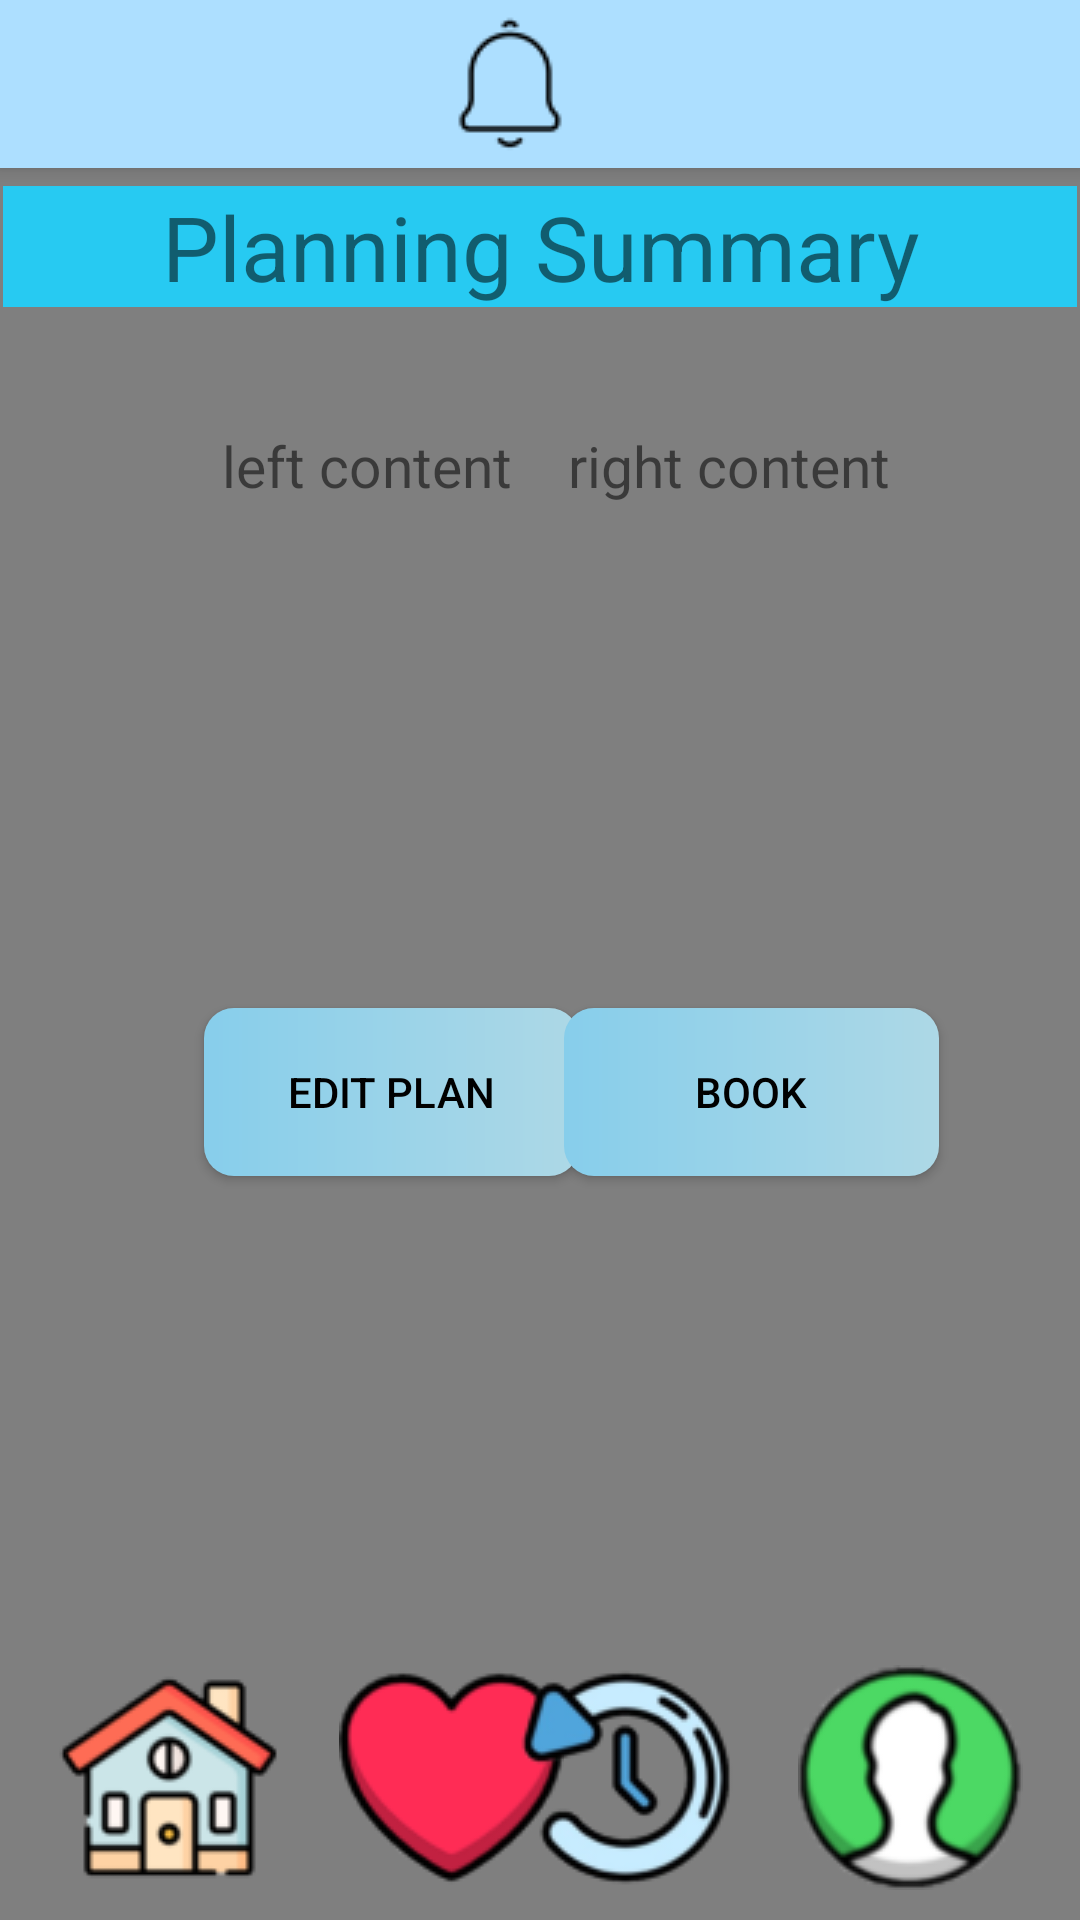

Where icons sit on this 1080×1920 app screen, as (x1, y1, x2, y2):
heart: (339, 1673, 564, 1882)
history: (516, 1673, 730, 1882)
home: (62, 1679, 277, 1876)
notification: (458, 18, 562, 148)
profile: (798, 1667, 1021, 1888)
